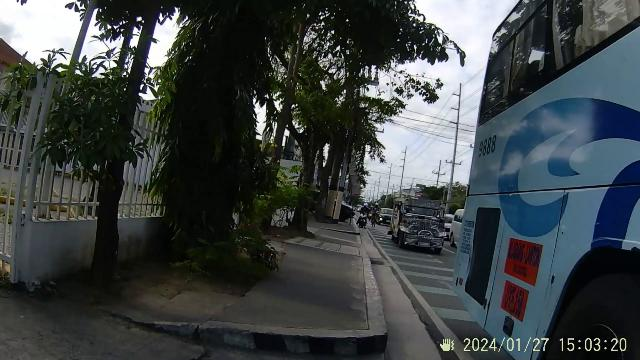car: (388, 196, 448, 254)
utility_post: (395, 146, 409, 196)
